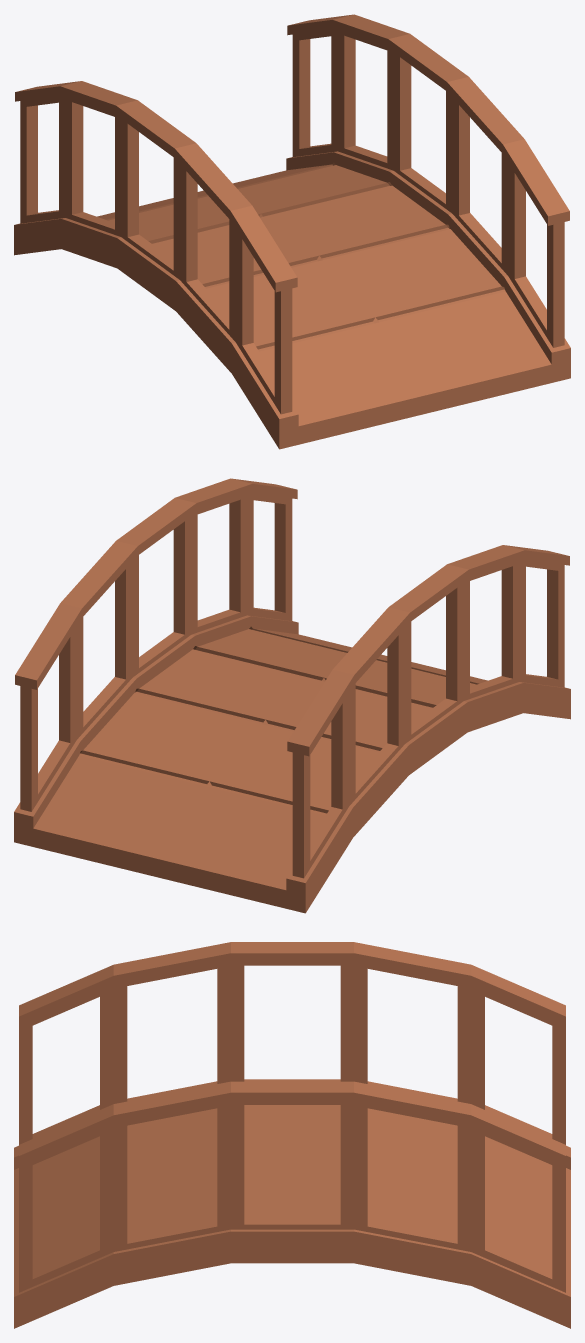
The model's file is bridge.fbx.
3 views of the same model, one above another, from view 1: azimuth 30°, elevation 25°; view 2: azimuth 150°, elevation 25°; view 3: azimuth 270°, elevation 25° (orthographic). The views are drawn at different scales.
Visible parts, largest first — view 1: Cube.002; view 2: Cube.002; view 3: Cube.002.
Part boxes in pixels (x1,y1,x2,y2): Cube.002: [14, 14, 570, 449]; Cube.002: [14, 478, 570, 913]; Cube.002: [14, 942, 570, 1328].
Size of the model in its own units: 320 by 234 by 500.
